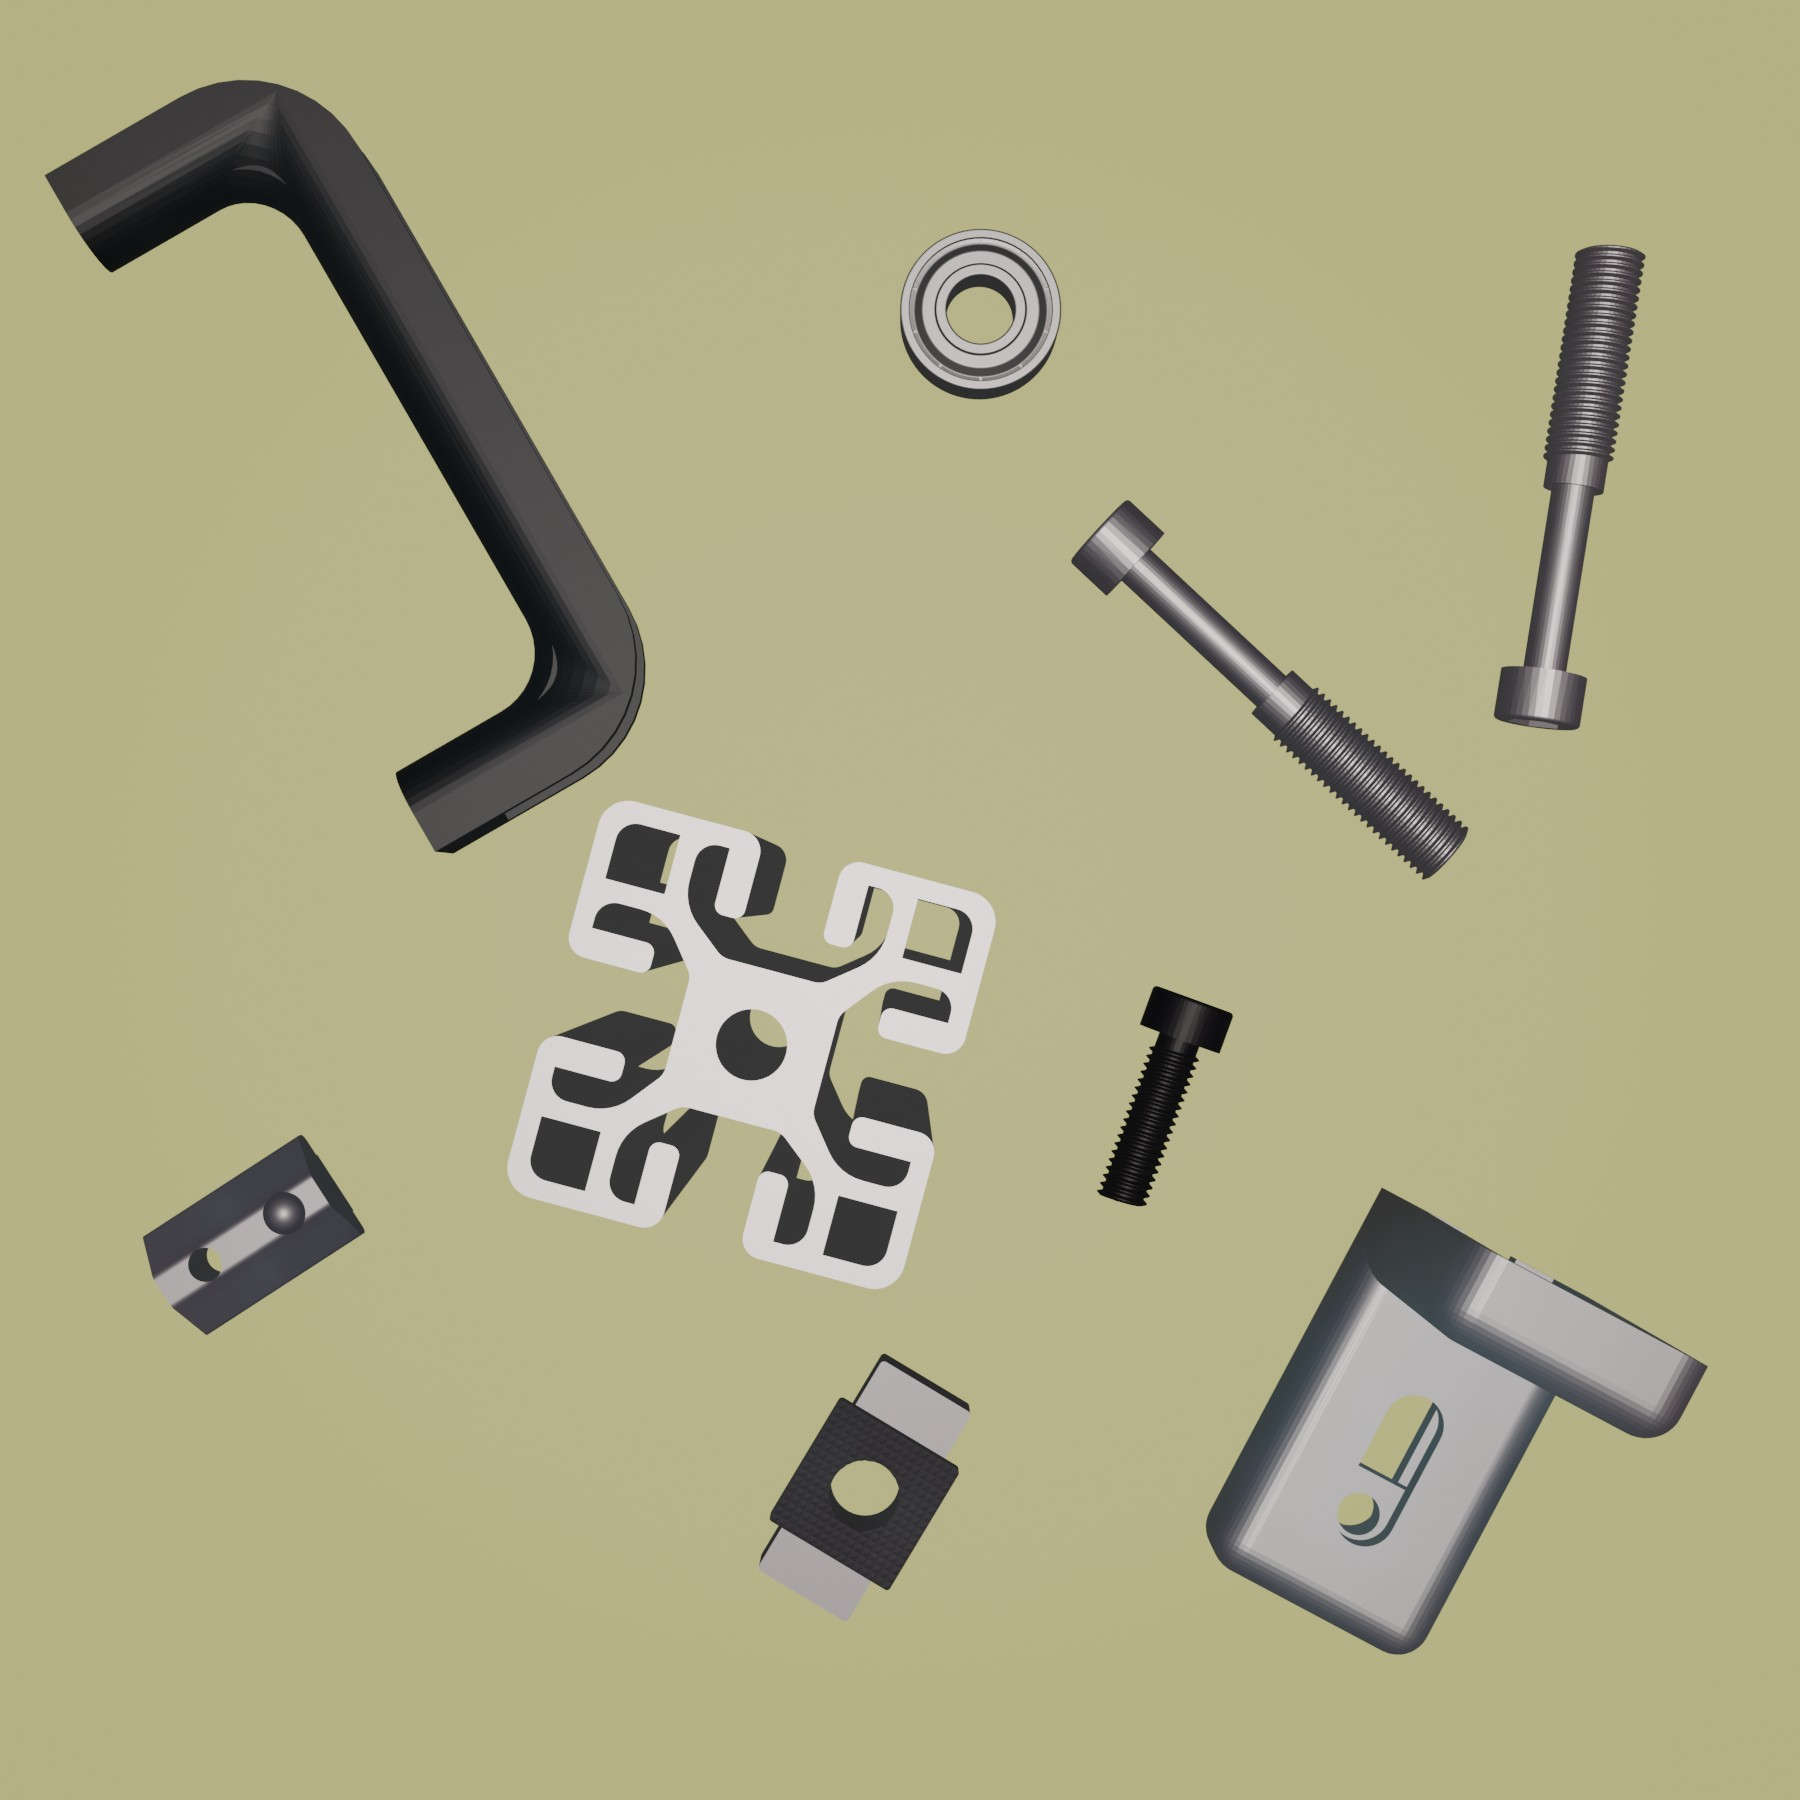Aluminium Extension: (504, 799, 996, 1292)
Ball Bearing: (897, 227, 1062, 401)
Multiwinkel: (1202, 1188, 1709, 1657)
Pull Handle: (41, 77, 648, 855)
Shoulder Socket Head Cap Screw: (1070, 499, 1470, 880), (1493, 242, 1648, 732)
Socket Head Cap Screw: (1093, 984, 1236, 1208)
T Nut Square: (753, 1352, 973, 1624)
T Spring Nut: (143, 1131, 364, 1338)
